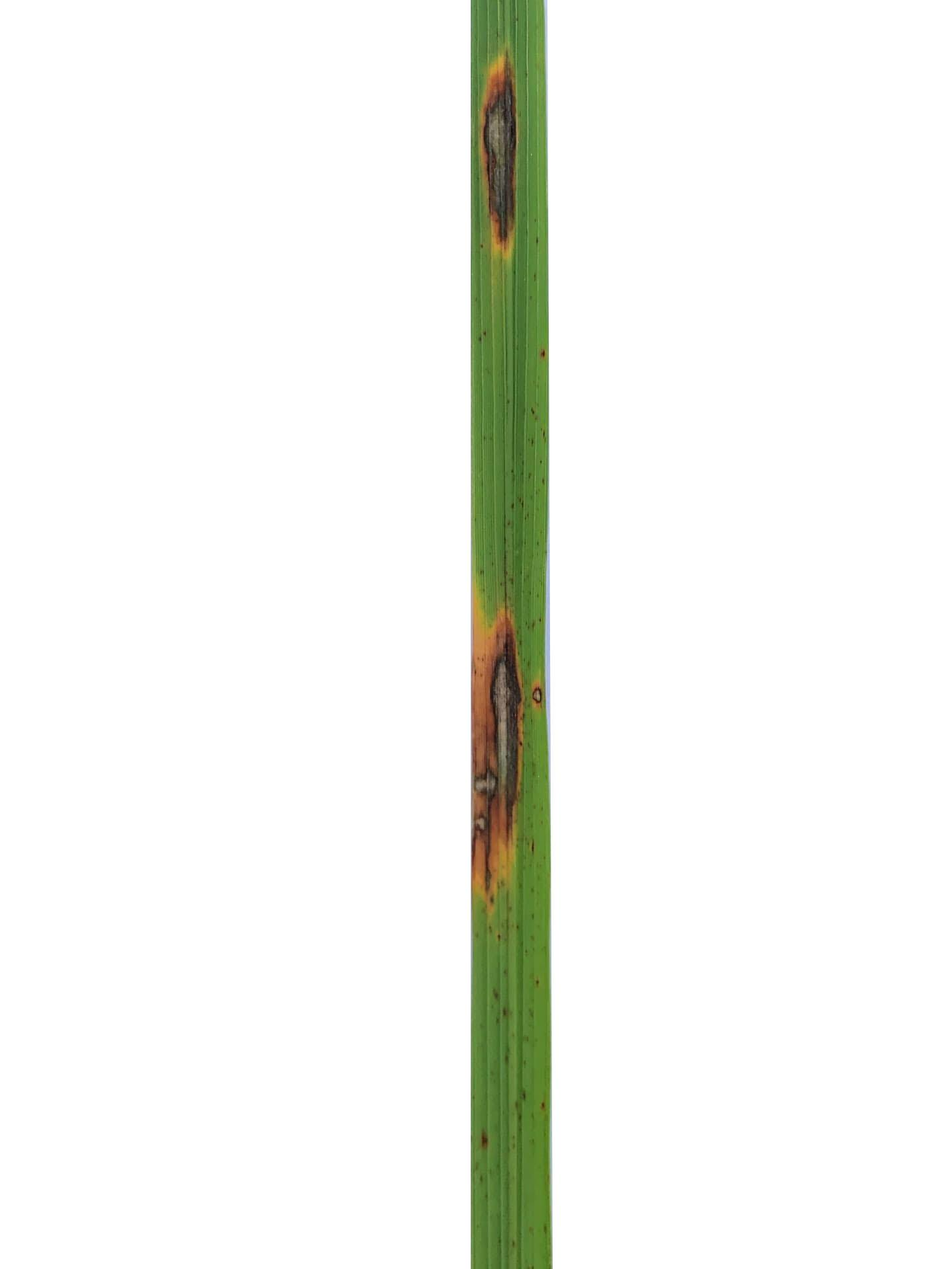Rice blast: (471, 47, 532, 288)
